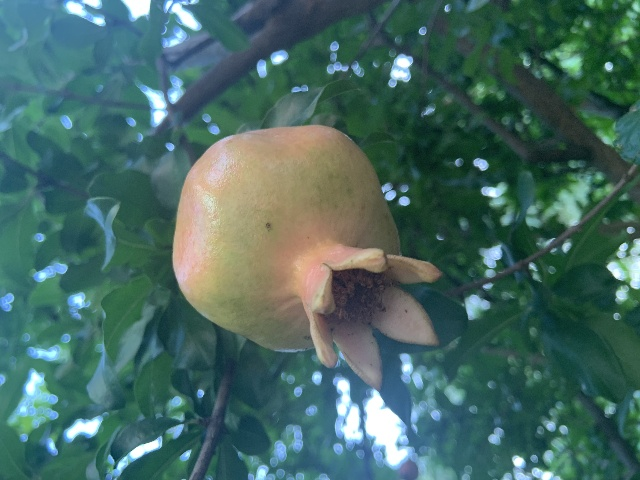mid-growth: (171, 124, 442, 390)
